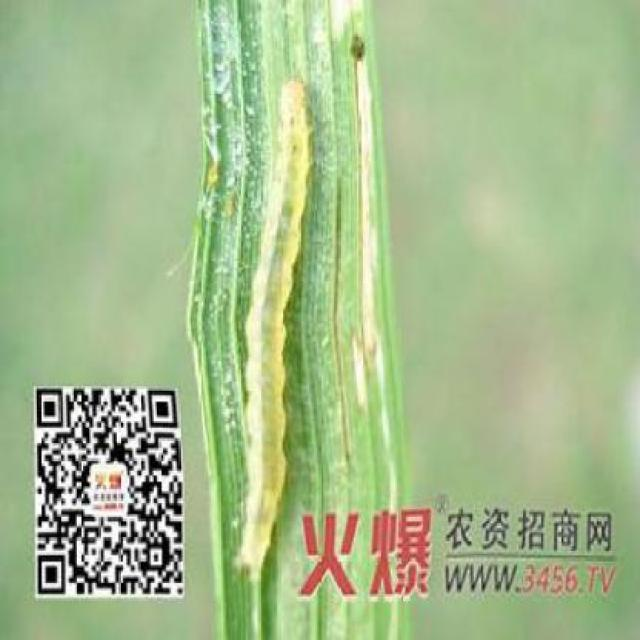leaf-folder: (218, 60, 373, 469)
